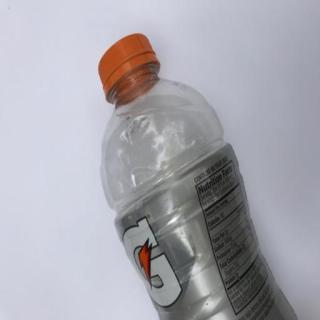Plastic-bottle: (95, 30, 301, 320)
